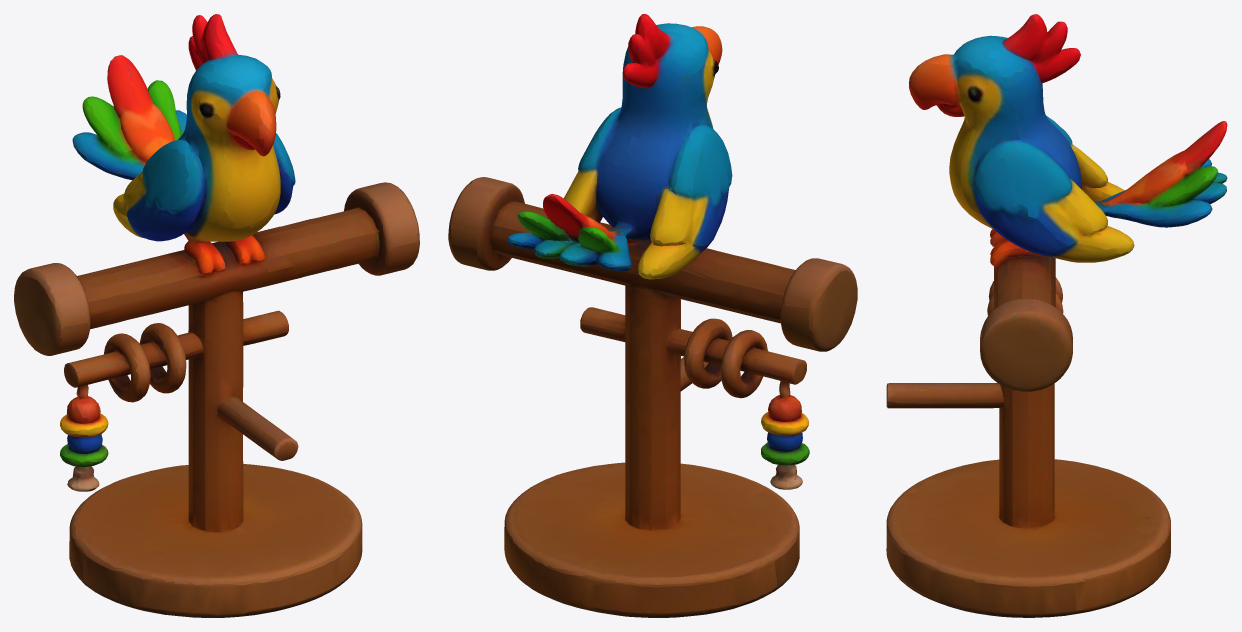
File: x-parrotperch.glb
The picture shows the model from 3 angles, left to right: view 1: azimuth 30°, elevation 25°; view 2: azimuth 150°, elevation 25°; view 3: azimuth 270°, elevation 25°; orthographic projection.
Parts seen in each view (by area): view 1: geometry_0; view 2: geometry_0; view 3: geometry_0.
Part boxes in pixels (x1,y1,x2,y2): geometry_0: (14,14,419,617); geometry_0: (448,14,857,617); geometry_0: (886,14,1227,617).
Bounding box in the file's own units: 0.2257 × 0.32 × 0.1806.
1 material, 1 textured.
